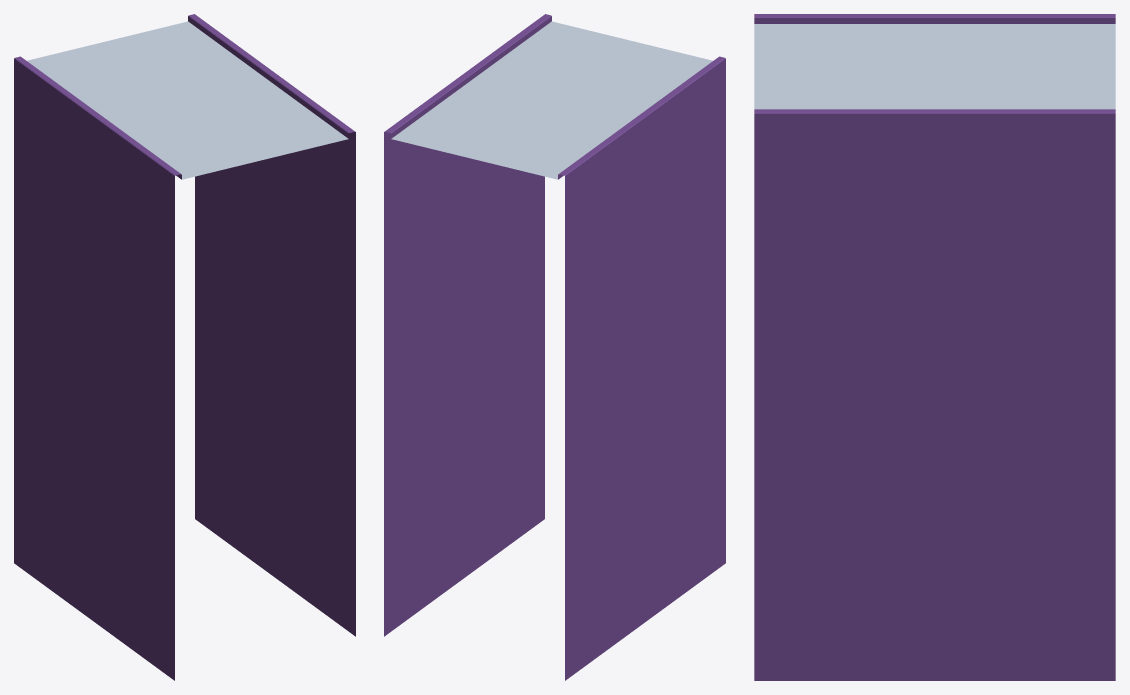
File: SM_Platform.fbx
The picture shows the model from 3 angles, left to right: view 1: azimuth 30°, elevation 25°; view 2: azimuth 150°, elevation 25°; view 3: azimuth 270°, elevation 25°; orthographic projection. The views are drawn at different scales.
Parts seen in each view (by area): view 1: SM_Platform; view 2: SM_Platform; view 3: SM_Platform.
Part boxes in pixels (x1,y1,x2,y2): SM_Platform: (14, 14, 355, 680); SM_Platform: (384, 14, 725, 680); SM_Platform: (754, 14, 1115, 680).
Bounding box in the file's own units: 650 × 1734 × 1000.
